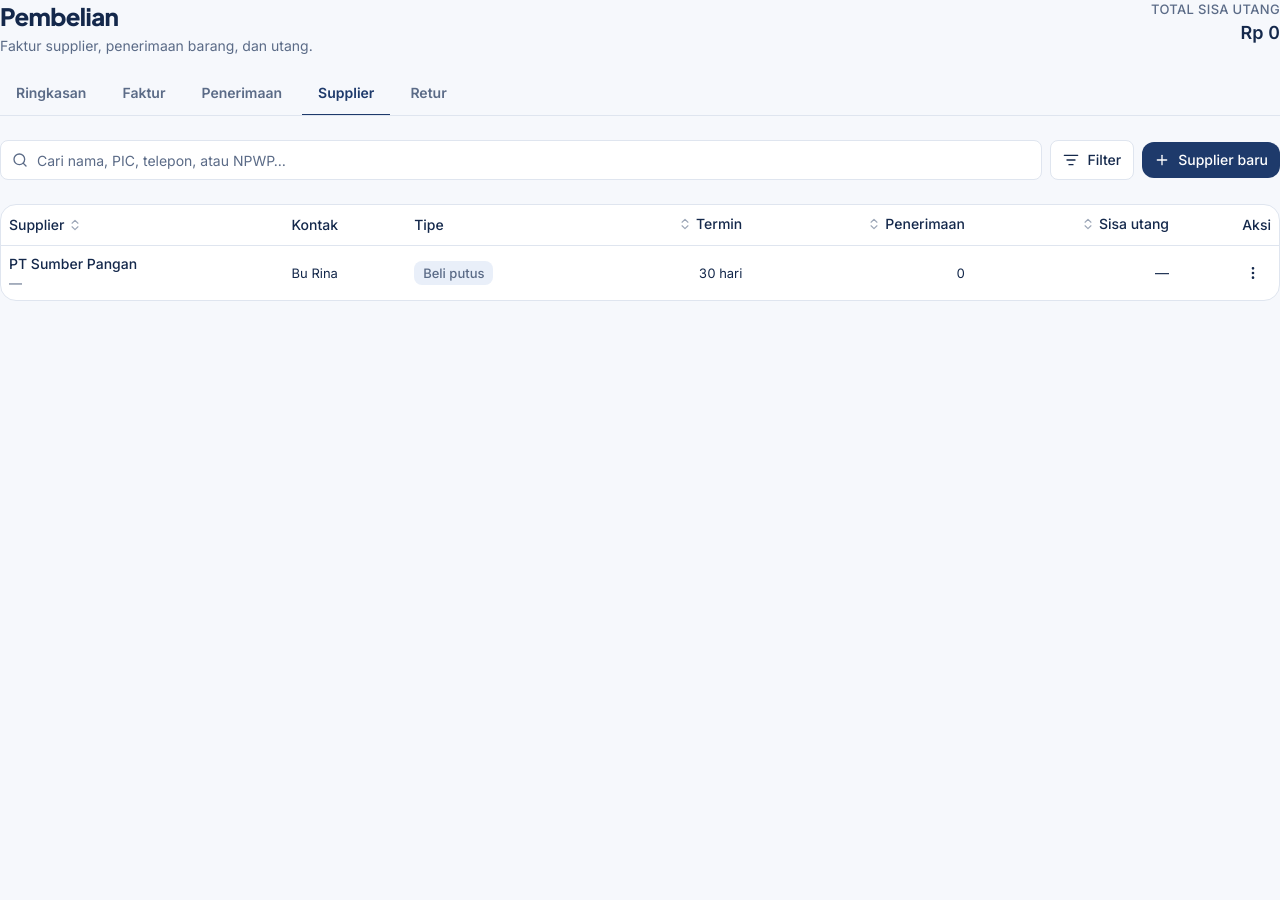
Test: header sorting › offers no Urutkan in the filter panel
Check: the link "PT Sumber Pangan" is shown, box [9,254,137,274]
Step 1. Click the button "Filter" → click(1092, 160), box [1050,140,1134,180]
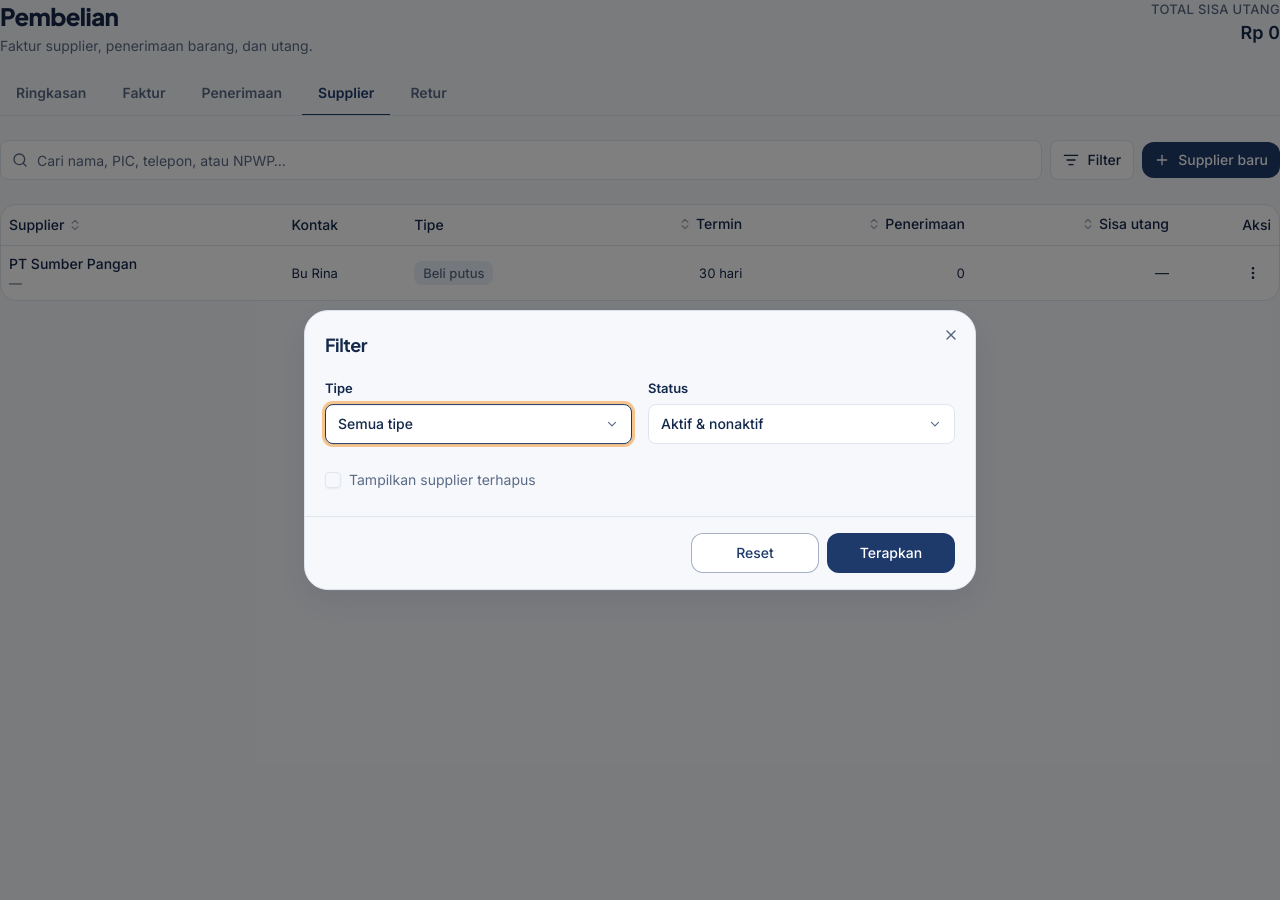
Check: the button with aria-label "Filter tipe kerja sama" is shown, box [325,404,632,444]
